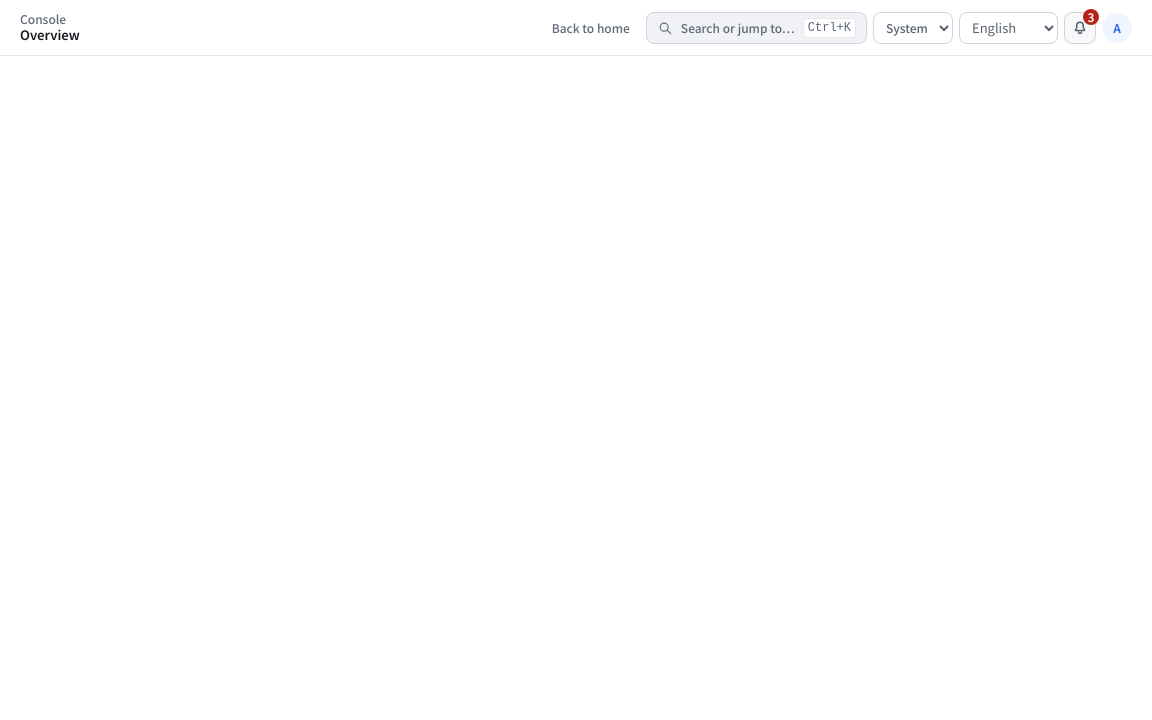
Test: console notification bell › disables "mark all as read" from the server count even when the page is read
The image size is (1152, 720).
Step 1. Click the button named "Notifications" → coordinates (1080, 28), box [1064,12,1096,44]
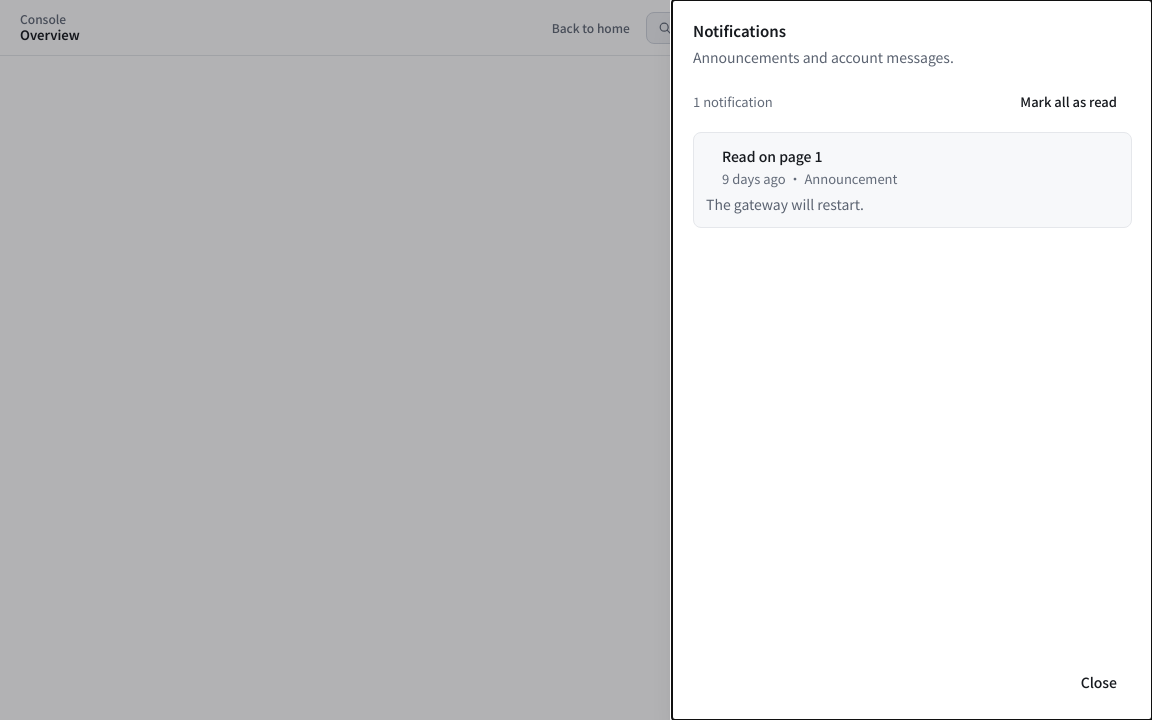
expect the button "Mark all as read" is enabled: met, box [1005,84,1132,120]
